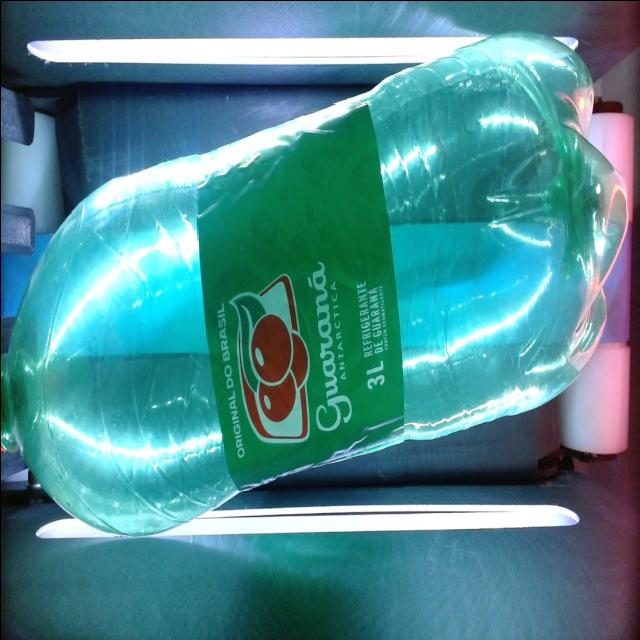bottom: (434, 36, 626, 426)
label: (197, 103, 403, 489)
neck: (0, 211, 135, 531)
